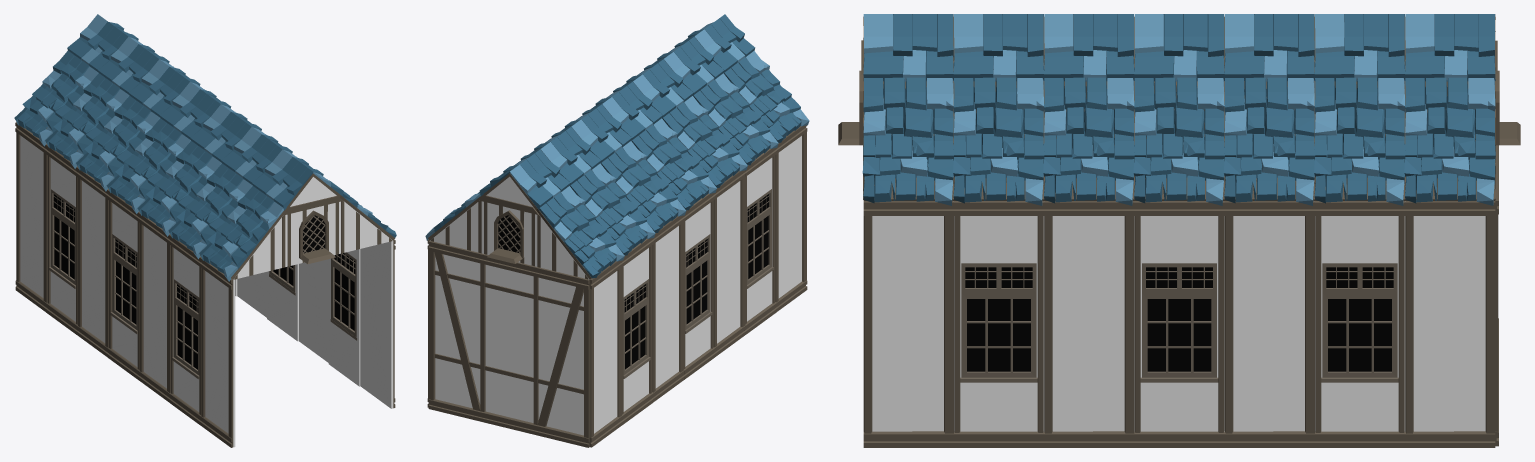
File: House_04_parts.fbx
3 renders of one model, left to right at view 1: azimuth 30°, elevation 25°; view 2: azimuth 150°, elevation 25°; view 3: azimuth 270°, elevation 25°, orthographic. The views are drawn at different scales.
Visible parts, largest first — view 1: WALL_03_7, WALL_03_3, WINDOW_04_6, WALL_03_8, WALL_03_10, WINDOW_04_7, WINDOW_04_8, WALL_03_9, WINDOW_04_3, ROOF_base_16, ROOF_base_11, ROOF_base_14 (+20 smaller); view 2: WALL_02_2, WALL_03_10, WALL_03_8, WALL_03_7, WALL_03_9, WINDOW_04_6, WINDOW_04_8, WINDOW_04_7, ROOF_base_10, ROOF_base_15, ROOF_base_11, ROOF_base_13 (+15 smaller); view 3: WALL_03_4, WALL_03_6, WINDOW_04_4, WALL_03_5, WALL_03_3, WINDOW_04_5, WINDOW_04_3, ROOF_base_9, ROOF_base_5, ROOF_base_6, ROOF_base_3, ROOF_base_7 (+12 smaller).
Part boxes in pixels (x1,y1,x2,y2): WALL_03_7: (200,257,235,447); WALL_03_3: (360,240,395,408); WINDOW_04_6: (169,235,201,424); WALL_03_8: (138,212,170,402); WALL_03_10: (15,122,47,312); WINDOW_04_7: (107,190,139,379); WINDOW_04_8: (46,145,78,334); WALL_03_9: (77,167,108,357); WINDOW_04_3: (328,249,360,386); ROOF_base_16: (199,186,286,281); ROOF_base_11: (168,163,252,259); ROOF_base_14: (76,95,159,191); WALL_02_2: (428,241,589,447); WALL_03_10: (589,260,622,447); WALL_03_8: (713,170,745,356); WALL_03_7: (775,125,807,311); WALL_03_9: (652,215,684,402); WINDOW_04_6: (744,148,776,334); WINDOW_04_8: (621,238,653,424); WINDOW_04_7: (683,193,714,379); ROOF_base_10: (536,186,624,279); ROOF_base_15: (662,96,747,187); ROOF_base_11: (693,73,778,165); ROOF_base_13: (570,163,655,255); WALL_03_4: (1044,201,1134,447); WALL_03_6: (1405,201,1495,447); WINDOW_04_4: (1134,201,1224,447); WALL_03_5: (1224,201,1314,447); WALL_03_3: (863,201,953,447); WINDOW_04_5: (1315,201,1404,447); WINDOW_04_3: (954,201,1043,447); ROOF_base_9: (1404,77,1495,205); ROOF_base_5: (1043,77,1134,205); ROOF_base_6: (1133,75,1224,205); ROOF_base_3: (862,76,953,205); ROOF_base_7: (1223,76,1315,205).
Size of the model in its own units: 320 by 459 by 756.
